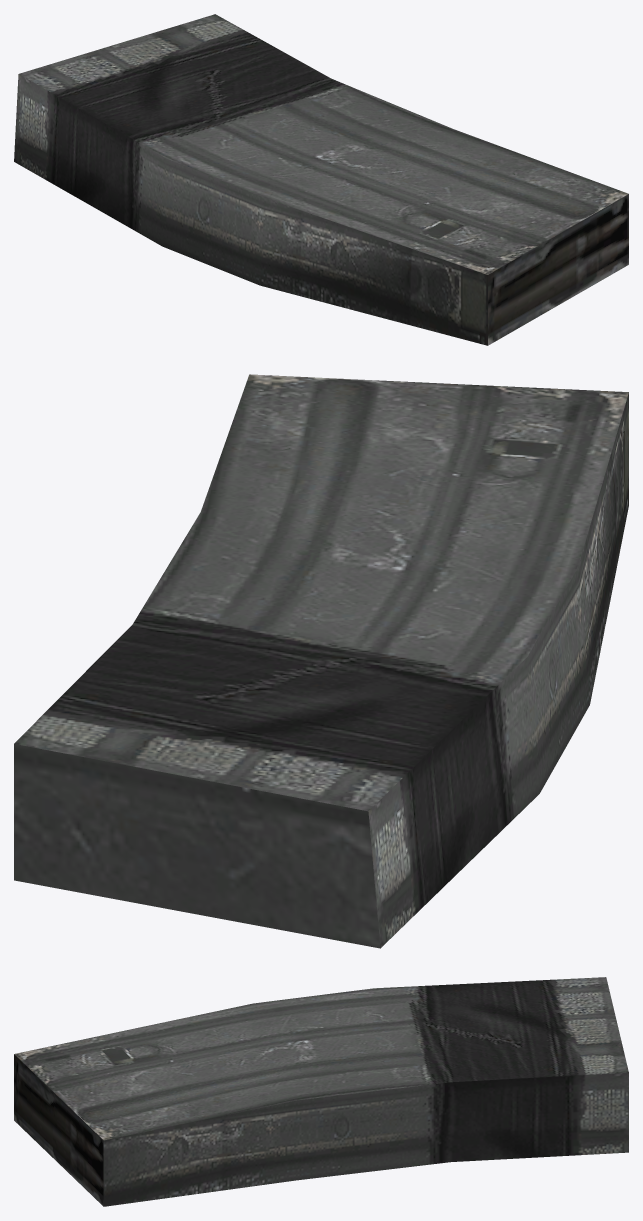
File: weapon_m16_clip_LOD0.obj
3 renders of one model, top to bottom at view 1: azimuth 30°, elevation 25°; view 2: azimuth 150°, elevation 25°; view 3: azimuth 270°, elevation 25°, orthographic. The views are drawn at different scales.
Parts seen in each view (by area): view 1: mtl_weapon_m16; view 2: mtl_weapon_m16; view 3: mtl_weapon_m16.
Boxes of the visible parts, x1,y1,x2,y2 form: mtl_weapon_m16: [14, 14, 628, 345]; mtl_weapon_m16: [14, 374, 628, 948]; mtl_weapon_m16: [14, 977, 628, 1206].
Bounding box in the file's own units: 10.46 × 2.45 × 17.06.
